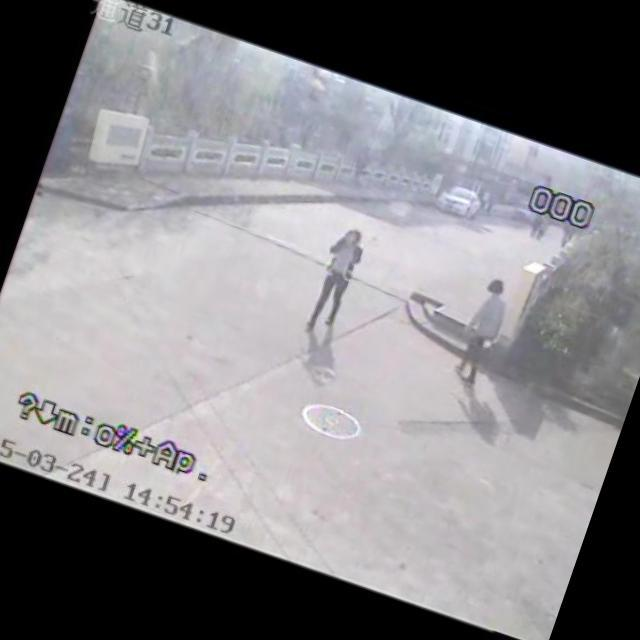person: (301, 222, 372, 342), (447, 271, 519, 388), (524, 212, 554, 245)
